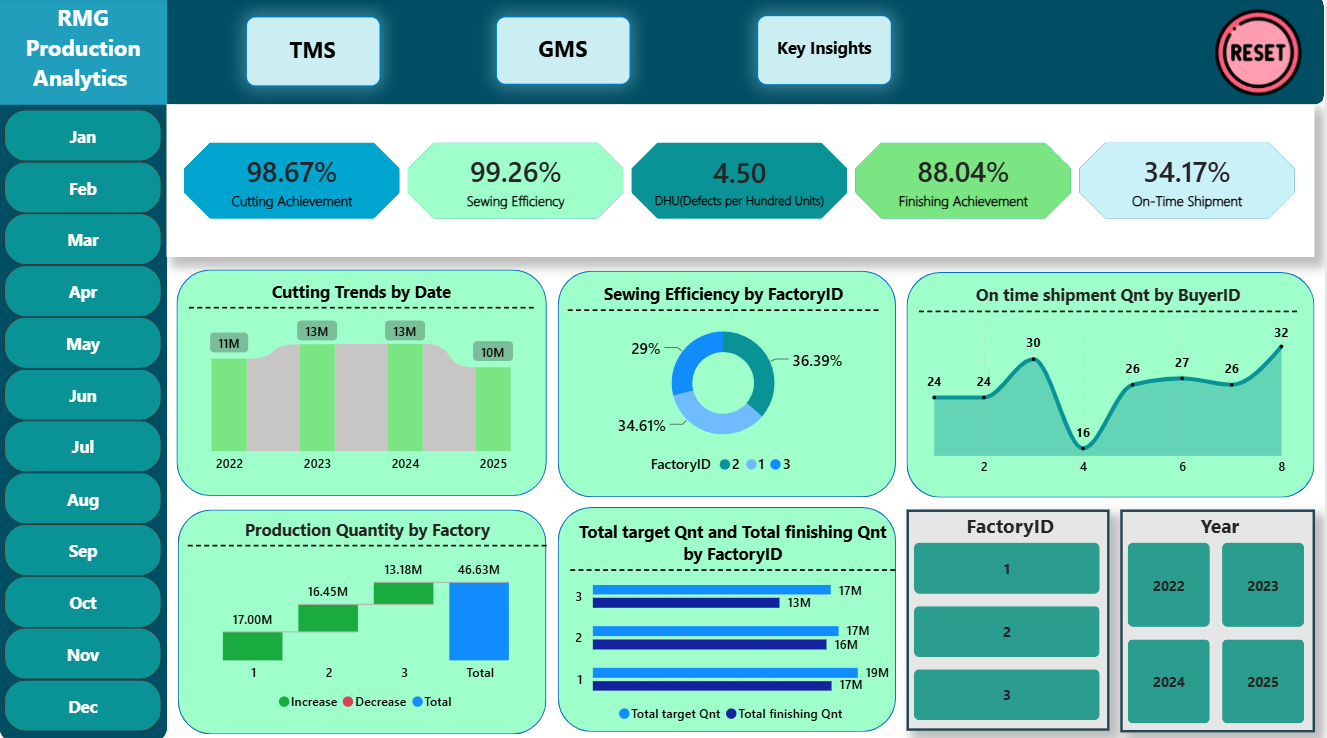

The page's visual inventory and layout, read from the dashboard file:
{"tool":"powerbi","page":{"name":"GMS","canvas":[1280,720],"ordinal":1},"visuals":[{"type":"shape","box":[0,0,1280,103.7],"z":0},{"type":"shape","box":[0,0,162.6,720.2],"z":1000},{"type":"textbox","box":[0,0,162.6,103.9],"z":2000},{"type":"cardVisual","fields":{"Data":["All measure table.Cutting Achievement","All measure table.Sewing Efficiency","All measure table.DHU(Defects per Hundred Units)","All measure table.Finishing Achievement","All measure table.On-Time Shipment"]},"box":[161.5,104.2,1108.1,147.1],"z":3000},{"type":"shape","box":[170.9,263.3,357.3,218.7],"z":4000},{"type":"listSlicer","fields":{"Values":["dim_date.MonthName"]},"box":[447.5,581.2,162.5,138.8],"z":5000},{"type":"advancedSlicerVisual","fields":{"Values":["dim_date.MonthName"]},"box":[0,103.8,162.5,616.2],"z":6000},{"type":"ribbonChart","title":"Cutting Trends by Date","fields":{"Category":["dim_date.Year"],"Y":["Sum(fact_cutting_daily.CutQty)"]},"box":[183.3,272.6,332.6,195.6],"z":7000},{"type":"shape","box":[538.7,264.3,326.5,218.7],"z":8000},{"type":"shape","box":[172.5,494.3,355.7,217.1],"z":9000},{"type":"shape","box":[539,492.8,326.5,217.1],"z":10000},{"type":"donutChart","fields":{"Y":["All measure table.Sewing Efficiency"],"Category":["fact_production_daily.FactoryID"]},"box":[549.5,275,300.3,195.6],"z":11000},{"type":"waterfallChart","title":"Production Quantity by Factory","fields":{"Category":["fact_production_daily.FactoryID"],"Y":["Sum(fact_production_daily.ProducedQty)"]},"box":[181.7,503.6,346.5,195.6],"z":12000},{"type":"clusteredBarChart","fields":{"Category":["dim_factory.FactoryID"],"Y":["All measure table.Total target Qnt","All measure table.Total finishing Qnt"]},"box":[551.5,504.7,313.7,206.2],"z":13000},{"type":"shape","box":[875.7,265.2,393.8,217.9],"z":14000},{"type":"lineChart","fields":{"Category":["fact_shipment.BuyerID"],"Y":["All measure table.On time shipment Qnt"]},"box":[887.5,275.7,365,195.6],"z":15000},{"type":"advancedSlicerVisual","fields":{"Values":["dim_factory.FactoryID"]},"box":[875.7,494.9,195.6,214],"z":16000},{"type":"advancedSlicerVisual","fields":{"Values":["dim_date.Year"]},"box":[1081.8,494.9,187.7,215.3],"z":17000},{"type":"actionButton","box":[1161.8,0,118.2,107.4],"z":18000},{"type":"actionButton","title":"TMS","box":[237.7,18.1,131,68.8],"z":19000},{"type":"actionButton","title":"GMS","box":[479,18.1,131.5,67.6],"z":20000},{"type":"actionButton","box":[731.1,16.9,131.5,68.8],"z":21000}]}

Visuals, with their boxes in screenshot pixels (x1, y1, x2, y2), scaled from the page's 1280x720 canvas onto the 1327x738 screenshot:
shape: region(0, 0, 1326, 106)
shape: region(0, 0, 169, 737)
textbox: region(0, 0, 169, 106)
cardVisual - All measure table.Cutting Achievement x All measure table.Sewing Efficiency: region(167, 107, 1316, 258)
shape: region(177, 270, 548, 494)
listSlicer - dim_date.MonthName: region(464, 596, 632, 737)
advancedSlicerVisual - dim_date.MonthName: region(0, 106, 168, 737)
"Cutting Trends by Date" ribbonChart: region(190, 279, 535, 480)
shape: region(558, 271, 897, 495)
shape: region(179, 507, 548, 729)
shape: region(559, 505, 897, 728)
donutChart - All measure table.Sewing Efficiency x fact_production_daily.FactoryID: region(570, 282, 881, 482)
"Production Quantity by Factory" waterfallChart: region(188, 516, 548, 717)
clusteredBarChart - dim_factory.FactoryID x All measure table.Total target Qnt: region(572, 517, 897, 729)
shape: region(908, 272, 1316, 495)
lineChart - fact_shipment.BuyerID x All measure table.On time shipment Qnt: region(920, 283, 1298, 483)
advancedSlicerVisual - dim_factory.FactoryID: region(908, 507, 1111, 727)
advancedSlicerVisual - dim_date.Year: region(1122, 507, 1316, 728)
actionButton: region(1204, 0, 1326, 110)
"TMS" actionButton: region(246, 19, 382, 89)
"GMS" actionButton: region(497, 19, 633, 88)
actionButton: region(758, 17, 894, 88)
